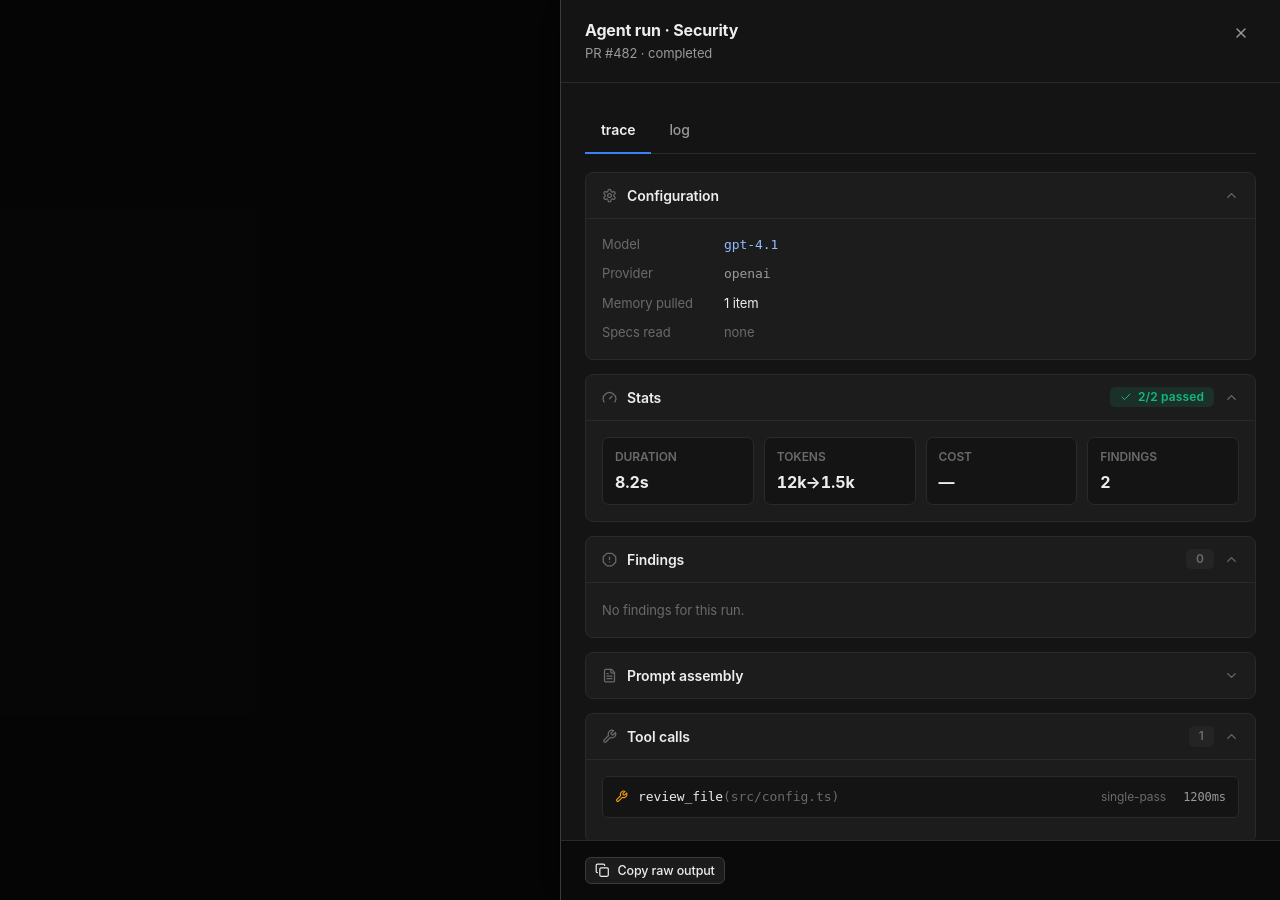
it: Run trace — Project context prompt row › shows the whole text sent to the model in the full-screen view (AC-80)
The image size is (1280, 900).
Click the text "Prompt assembly" at (685,676), box [627,667,743,684]
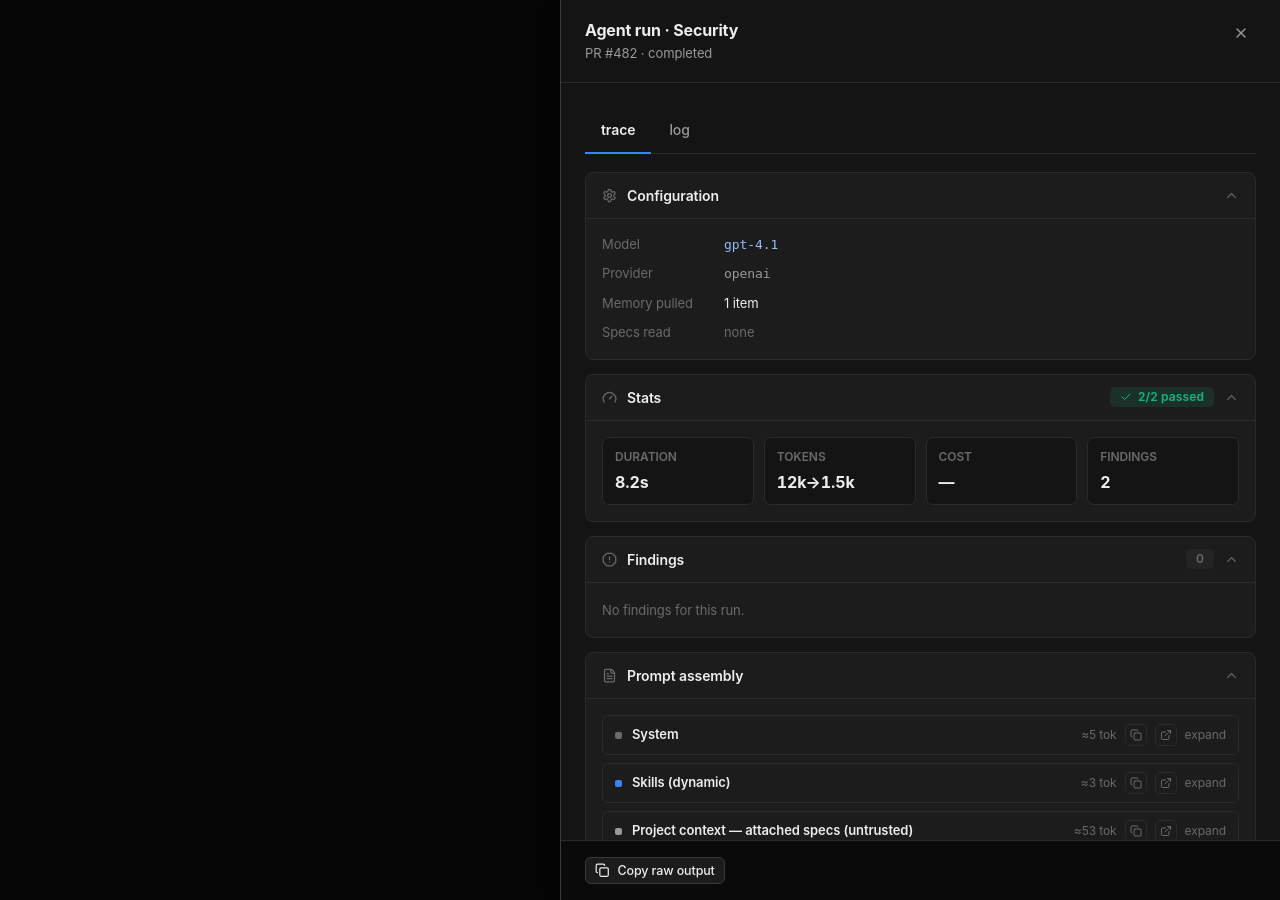
Click the button named "Open fullscreen" next to "≈53 tok" at (1166,831), box [1155,820,1177,842]
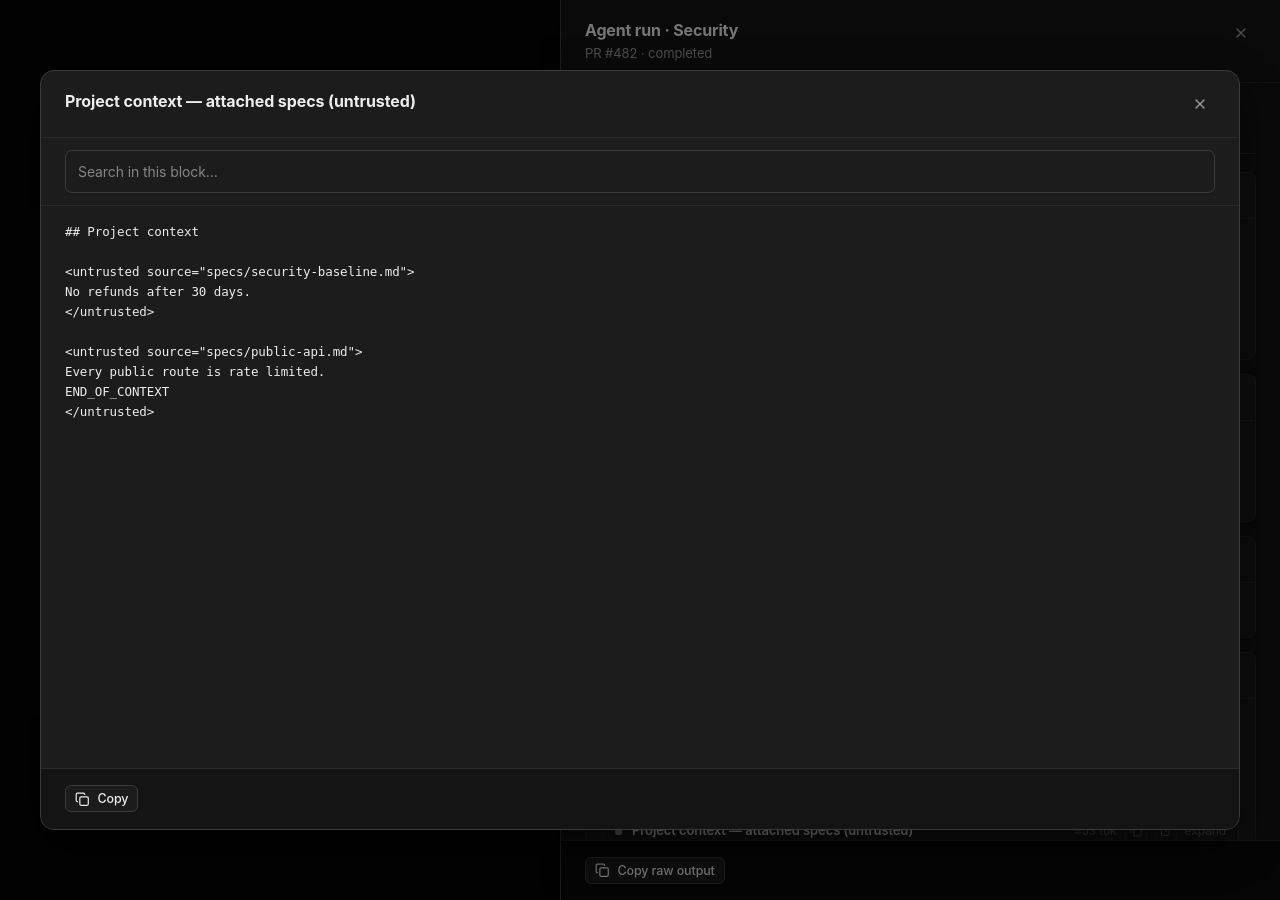
Result: the dialog is shown
